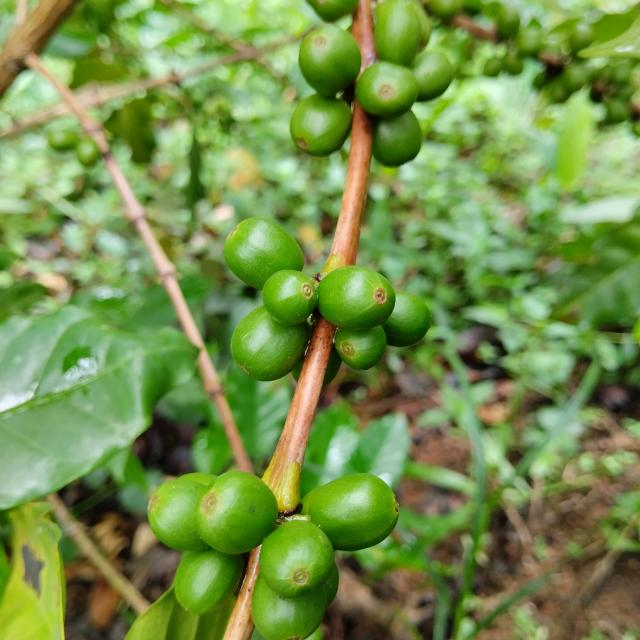green: (194, 471, 278, 555), (309, 474, 399, 552), (259, 520, 335, 599), (231, 306, 311, 381), (224, 218, 304, 290), (317, 265, 396, 329), (173, 548, 244, 616), (252, 576, 326, 640), (299, 24, 361, 96), (147, 479, 207, 552), (290, 93, 352, 156), (356, 60, 419, 118), (262, 269, 317, 326), (374, 0, 422, 64), (372, 110, 422, 166), (382, 291, 431, 347), (334, 326, 387, 370), (411, 51, 455, 101)
